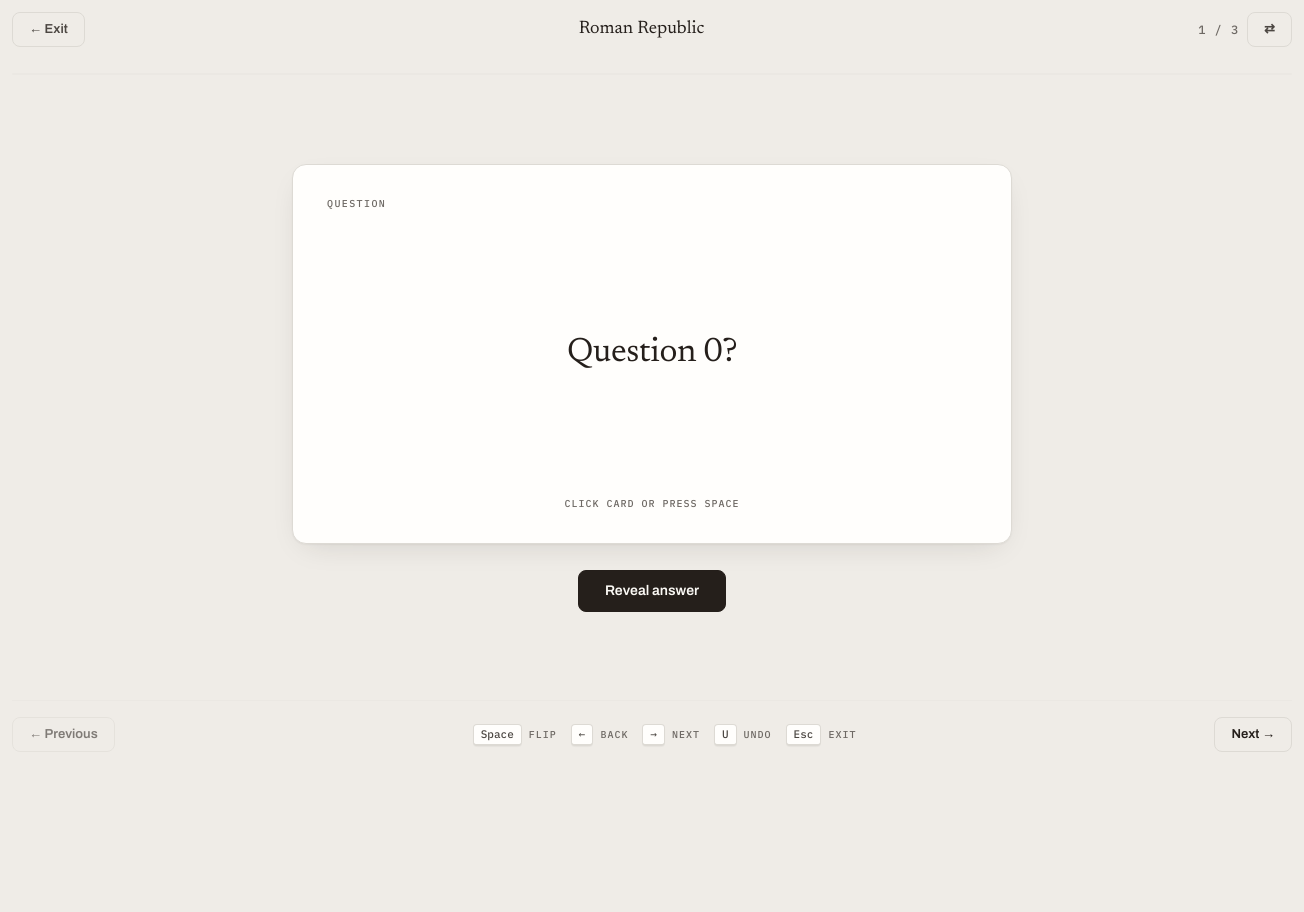
Test: grading › moves to the next card, face down
The image size is (1304, 912).
Click the button "Reveal answer": (652, 590) [578,570,726,612]
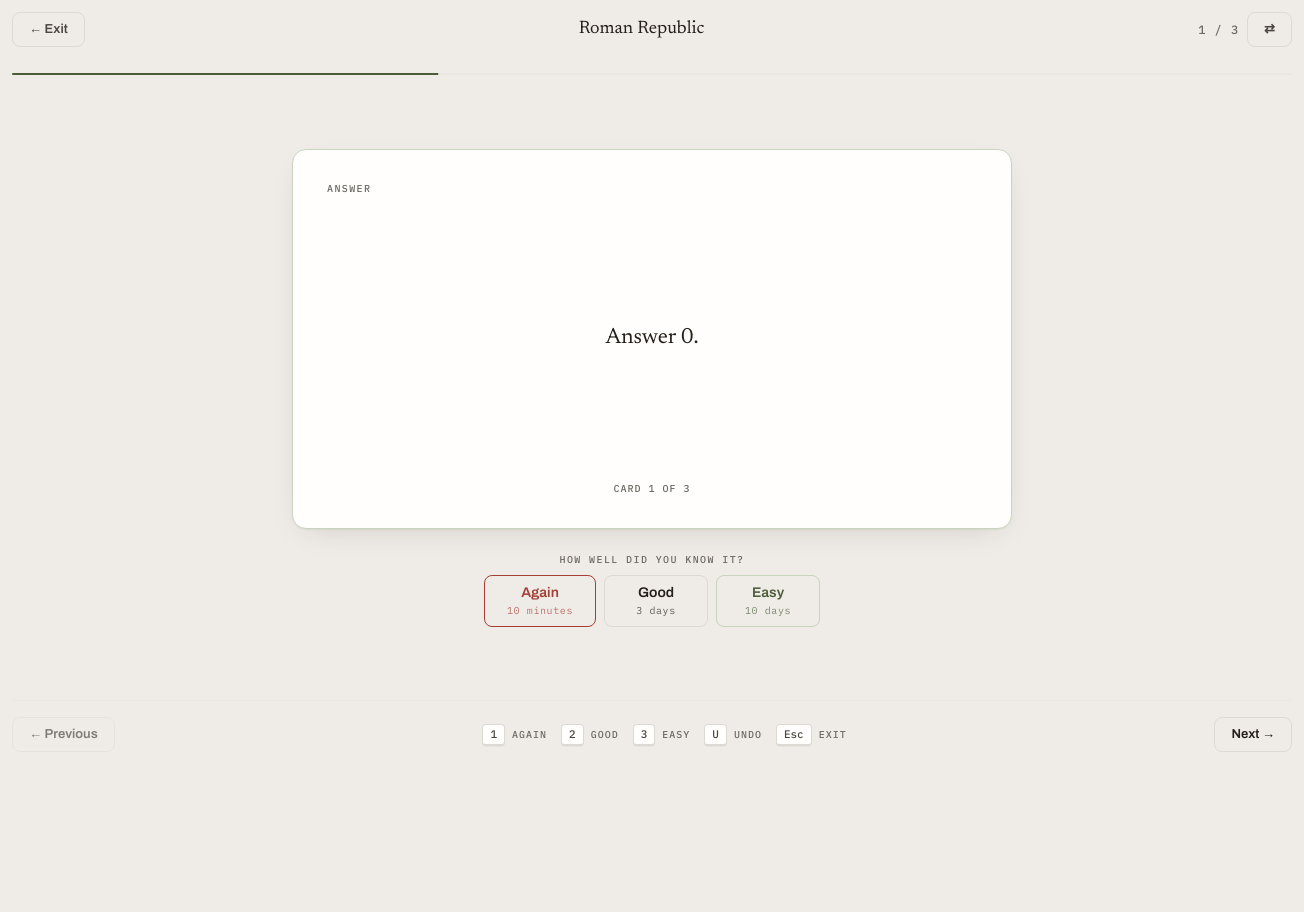
Click the button "Good 3 days": (656, 600) [604,574,708,626]
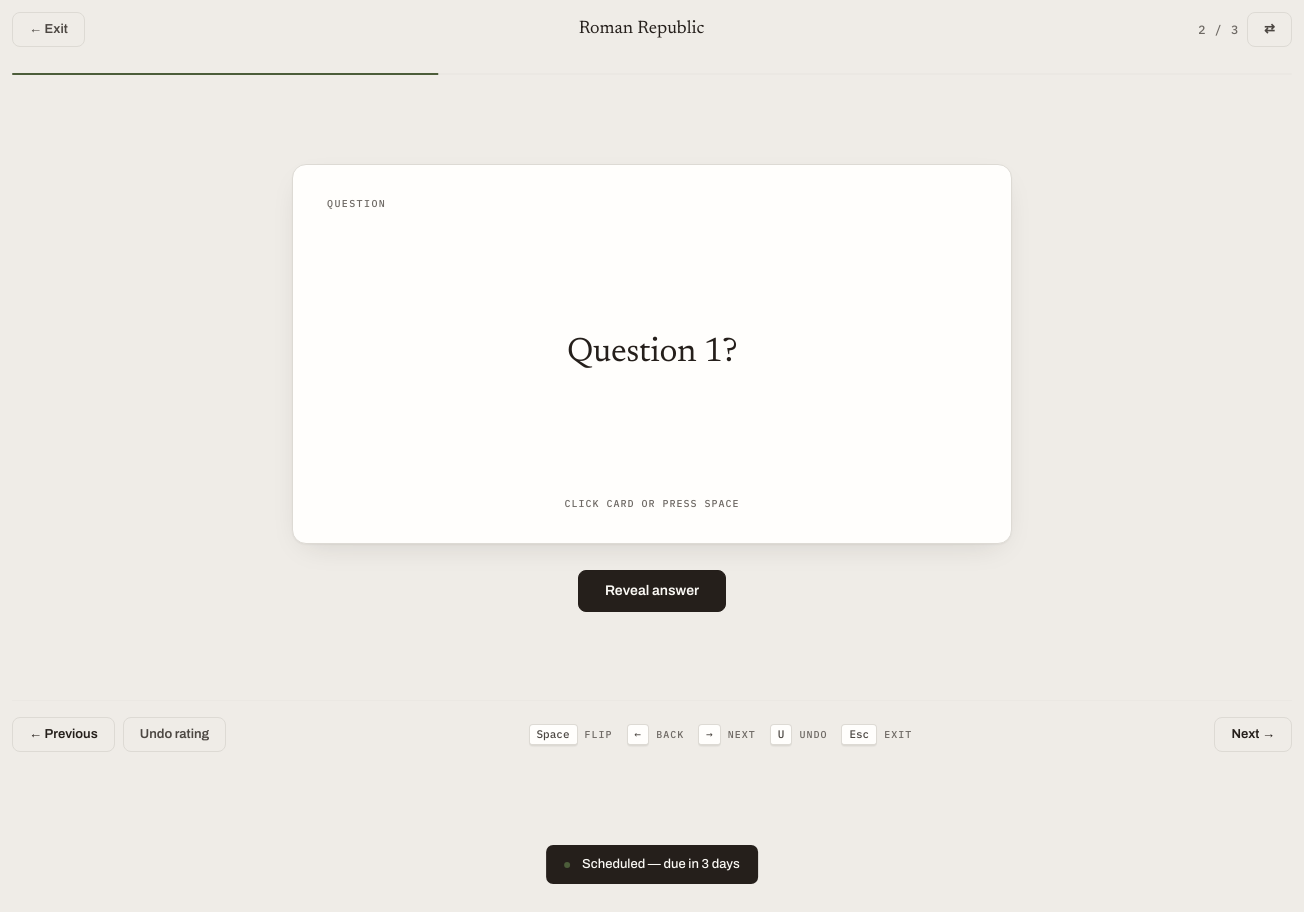
Check: the text "2 / 3" is shown, box [1198,22,1239,38]
Check: the button "Reveal answer" is shown, box [578,570,726,612]
